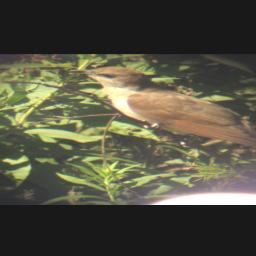Cuckoo: (67, 66, 256, 167)
